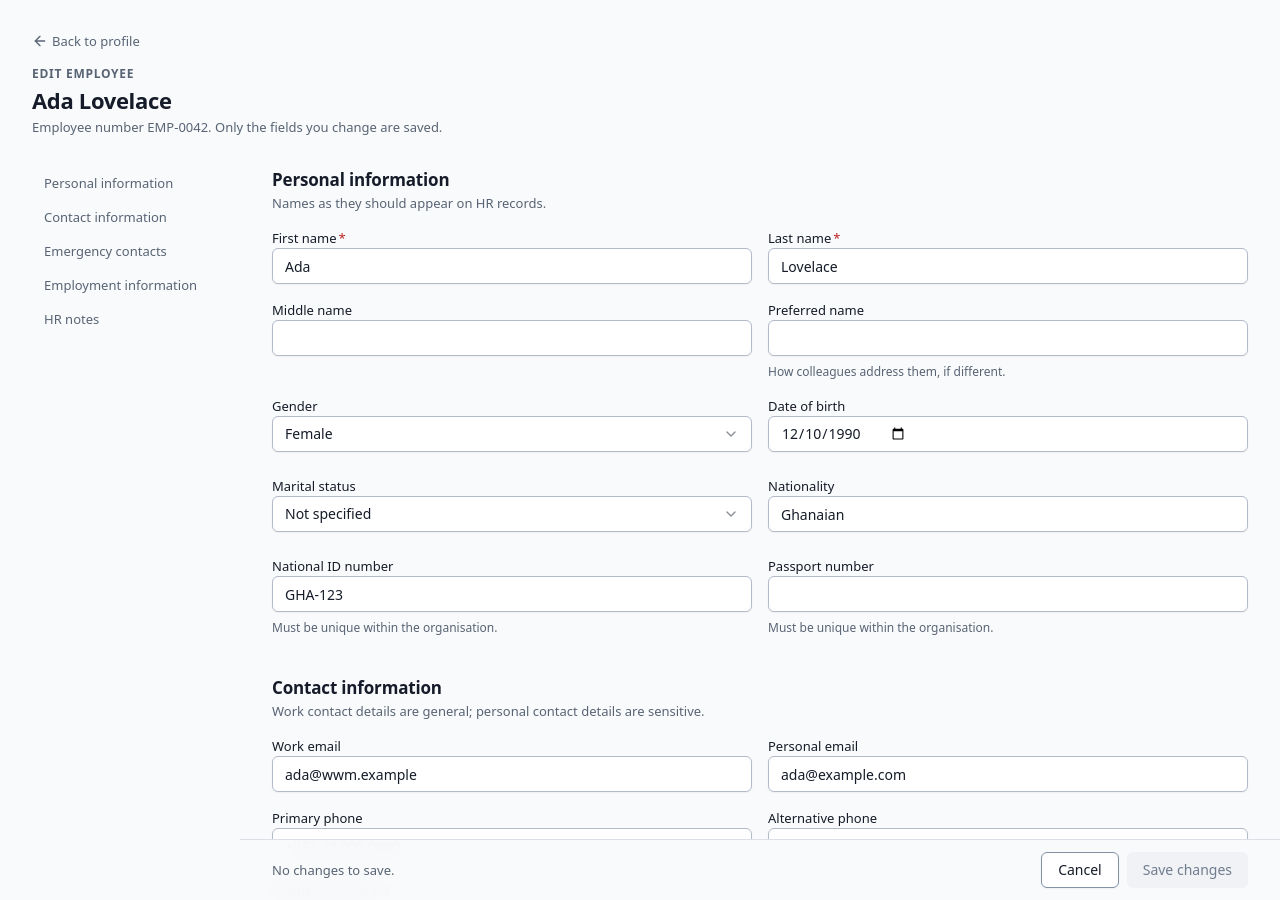
Scenario: Edit employee page › explains a self_administration_forbidden refusal from the server without pretending it succeeded
In the field with test id "input-employee-preferred-name": (1008, 338) top-left (768, 320), bottom-right (1248, 356), type "Countess"
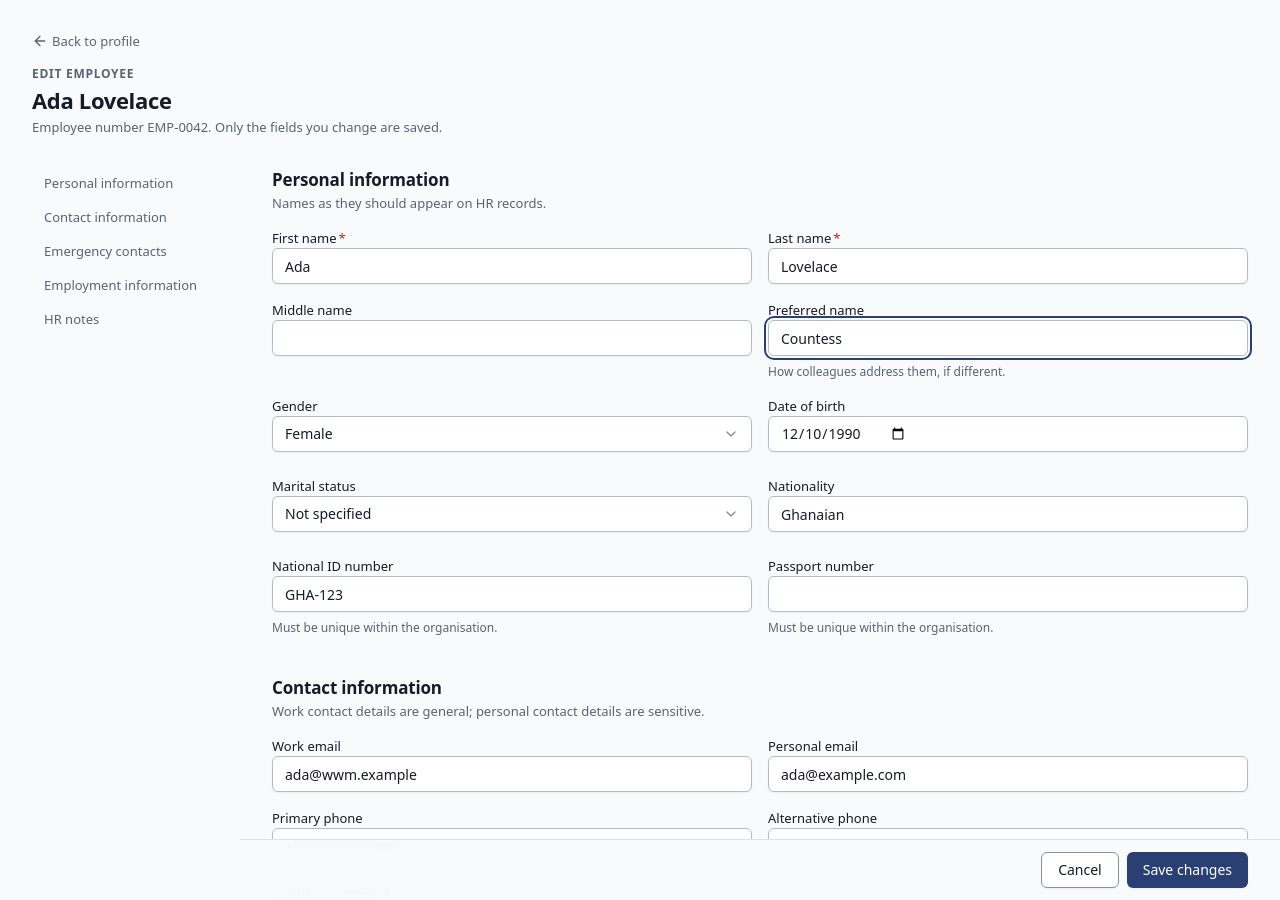
Click the button with test id "button-submit-employee": (1187, 870) top-left (1127, 852), bottom-right (1248, 888)
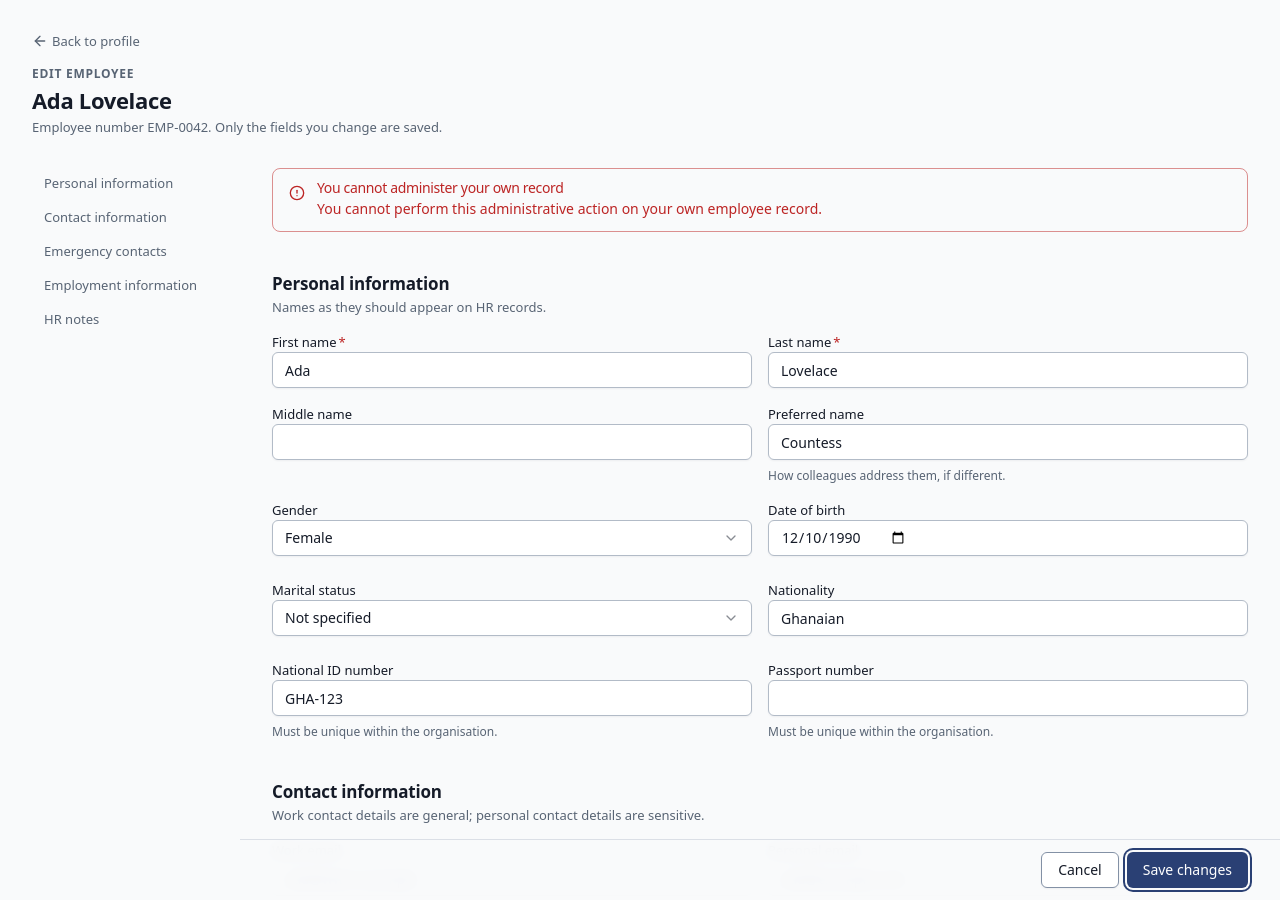
Check: the message with test id "alert-employee-form-error" shows "You cannot administer your own record", box top-left (317, 178), bottom-right (564, 197)
Check: the message with test id "alert-employee-form-error" shows "own employee record", box top-left (317, 199), bottom-right (822, 218)
